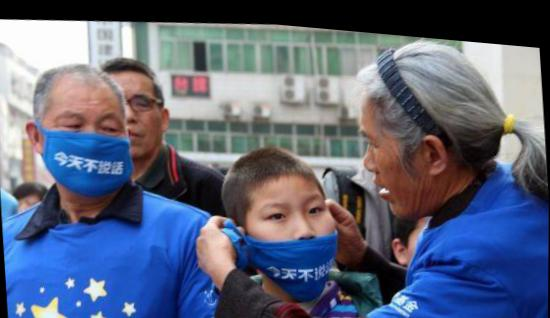NONE: (357, 109, 441, 215), (103, 74, 169, 158)
OK: (49, 97, 137, 191)
WRONG: (248, 181, 339, 278)
